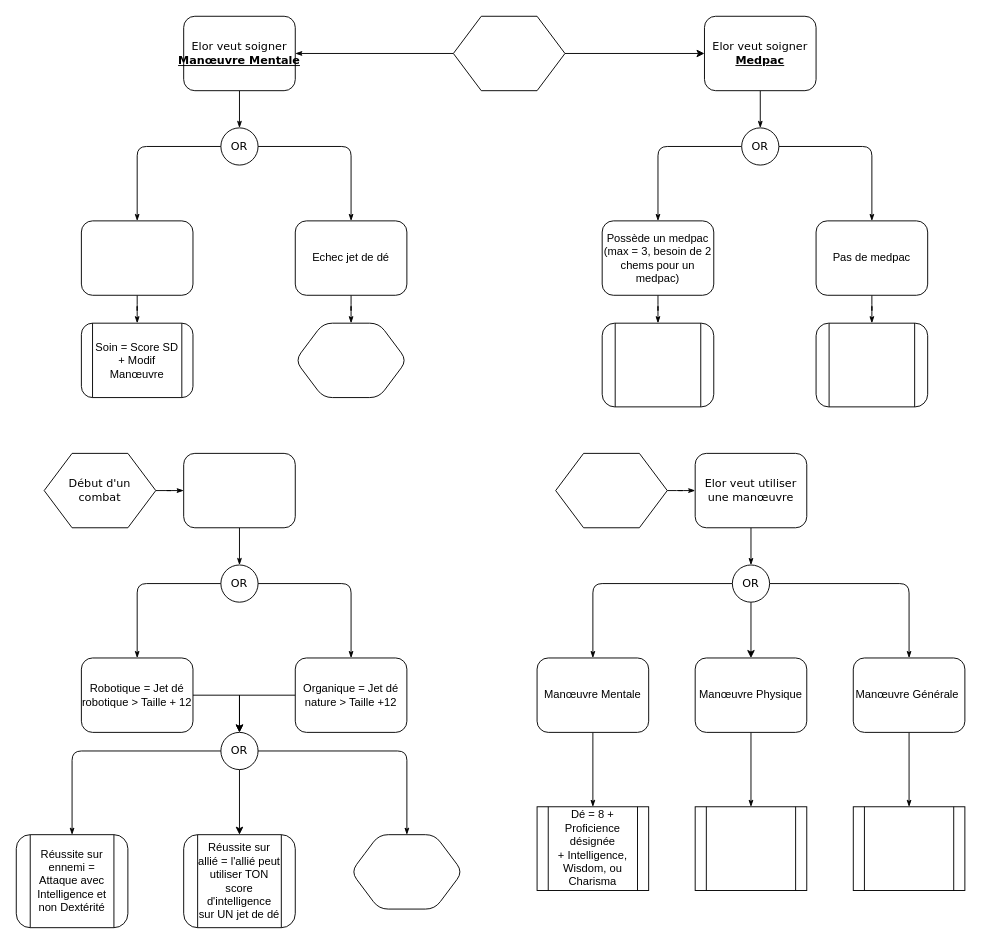
The diagram is 981 pixels wide and 944 high, and some of its shapes have lost their labels. Here are the shapes that lost their labels. From the top down, the centre of each, then its label:
point 508,53: Personne blessée
point 136,257: Jet de dé réussi
point 350,360: Pas de soins
point 657,364: Soin = Dé de vie de la cible + constitution
point 871,364: Pas de soins/possibilité de créer un medpac (DC 15 hors combat, DC 20 en combat)
point 239,490: Elor veut lancer analyse critique = action BONUS
point 611,490: Lancement d'une action
point 750,848: Dé = 8 + Proficience désignée + Strength, Dexterity, ou Constitution
point 908,848: Dé = 8 + Proficience désignée + au choix
point 406,871: Echec = pas de bonus
